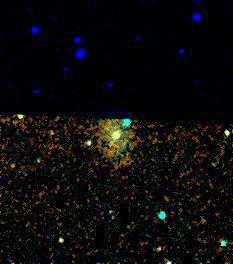star: (0, 154, 29, 184)
